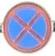No Parking: (4, 3, 54, 54)
